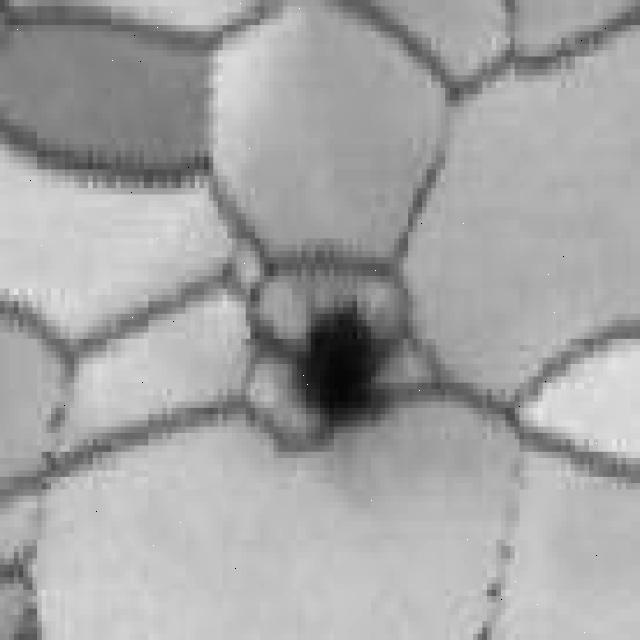good_void: (281, 298, 391, 435)
